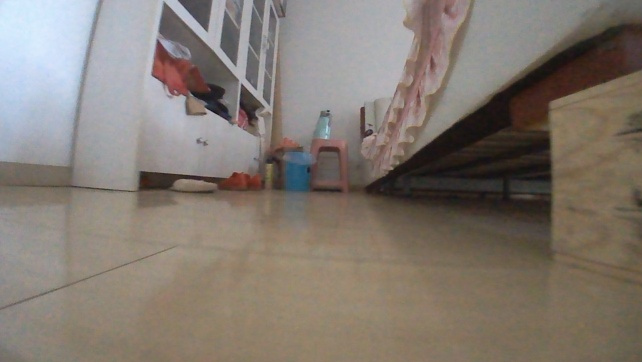bed: (354, 0, 641, 205)
shoe: (219, 169, 246, 191)
